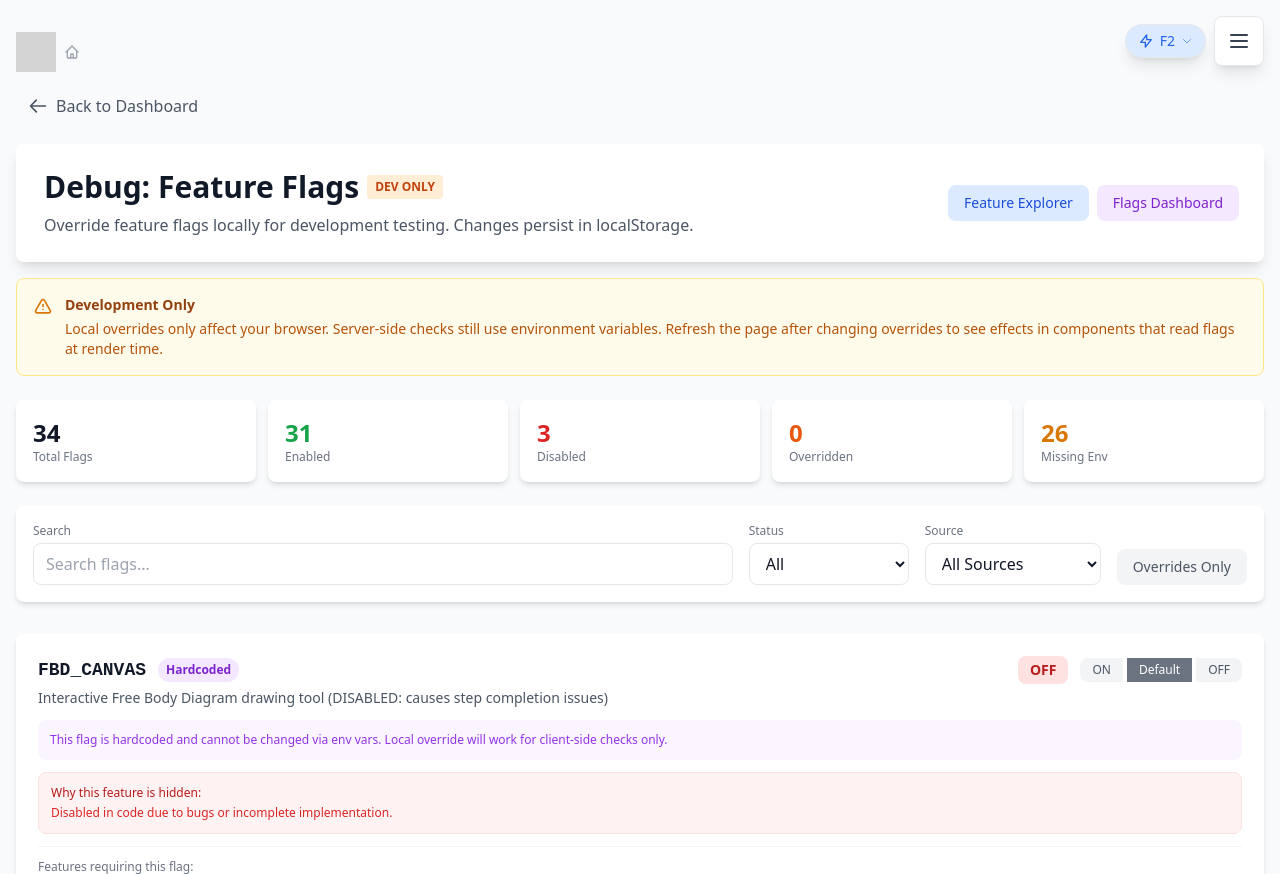
Test: Feature pages › Debug Feature Flags can set and clear overrides
This screenshot has width=1280, height=874.
Expected: the heading "Debug: Feature Flags" is shown, [44,169,359,205]
Click the button "ON" at (1102, 670), box [1080,658,1123,682]
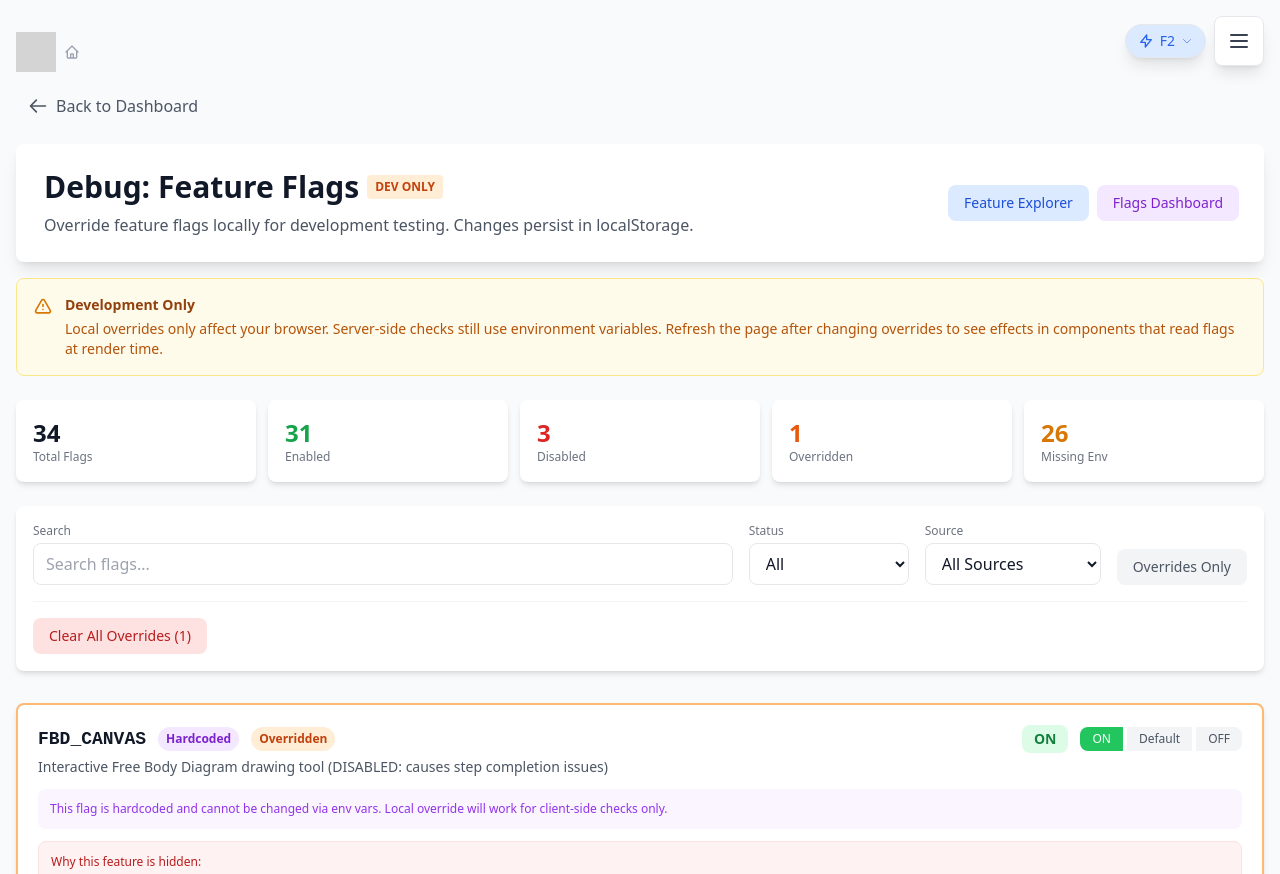
Expected: the button "Clear All Overrides (1)" is shown
Click the button "Clear All Overrides (1)" at (120, 636), box [33,618,207,654]
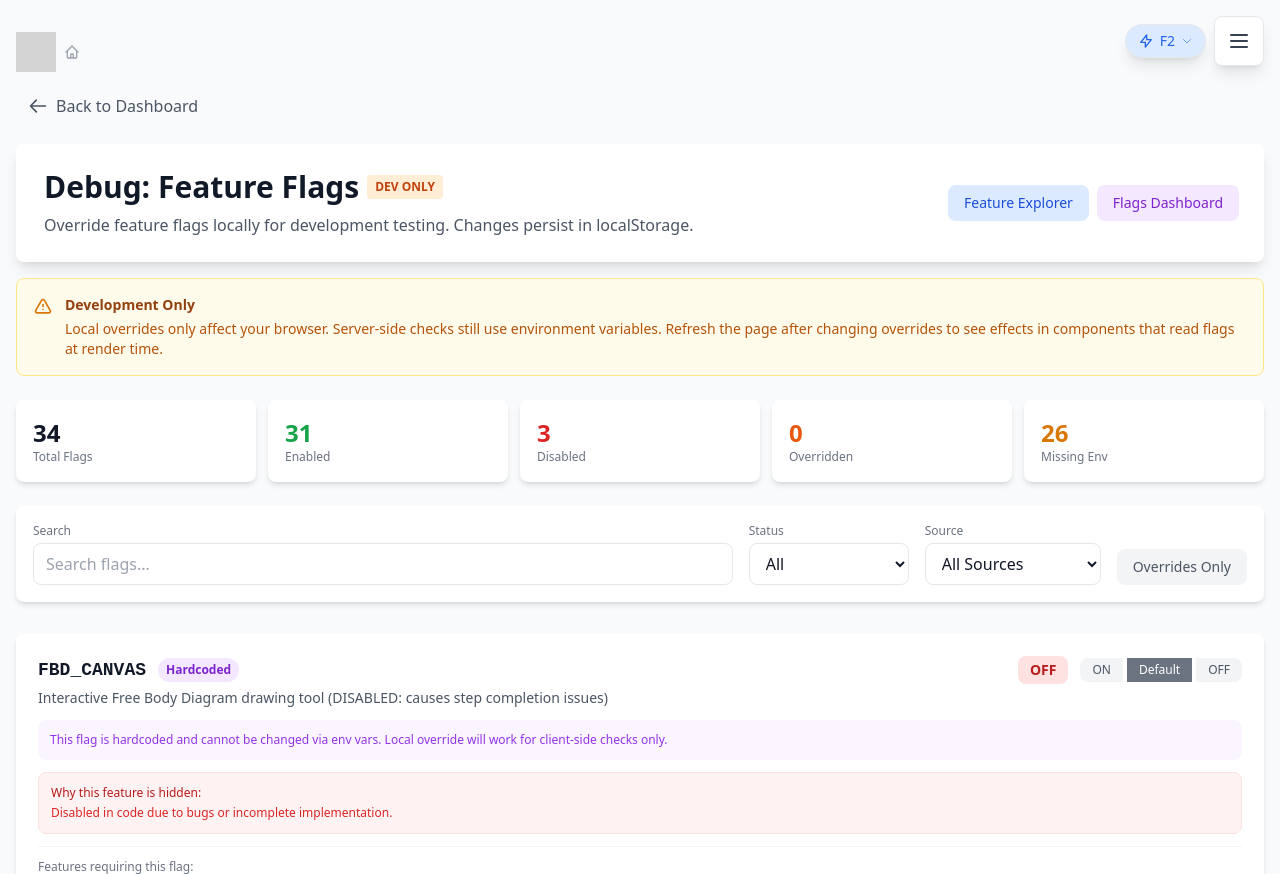
Expected: the button "Clear All Overrides" is gone
